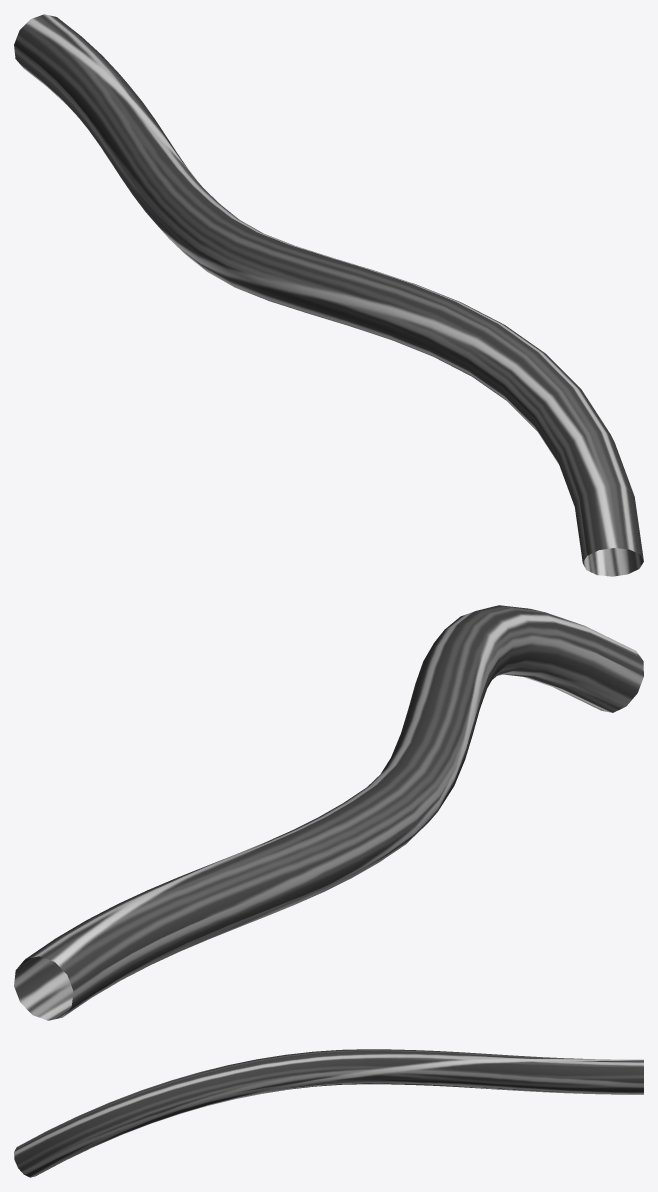
Rendered from EndPlatformSocketPipe.fbx.
The picture shows the model from 3 angles, top to bottom: view 1: azimuth 30°, elevation 25°; view 2: azimuth 150°, elevation 25°; view 3: azimuth 270°, elevation 25°; orthographic projection. The views are drawn at different scales.
Parts seen in each view (by area): view 1: SocketPipe_LOD0; view 2: SocketPipe_LOD0; view 3: SocketPipe_LOD0.
Part boxes in pixels (x1,y1,x2,y2): SocketPipe_LOD0: (14,14,643,576); SocketPipe_LOD0: (14,605,643,1020); SocketPipe_LOD0: (14,1049,643,1177).
Size of what is drawn, in the model's own units: 150 by 153 by 844.
